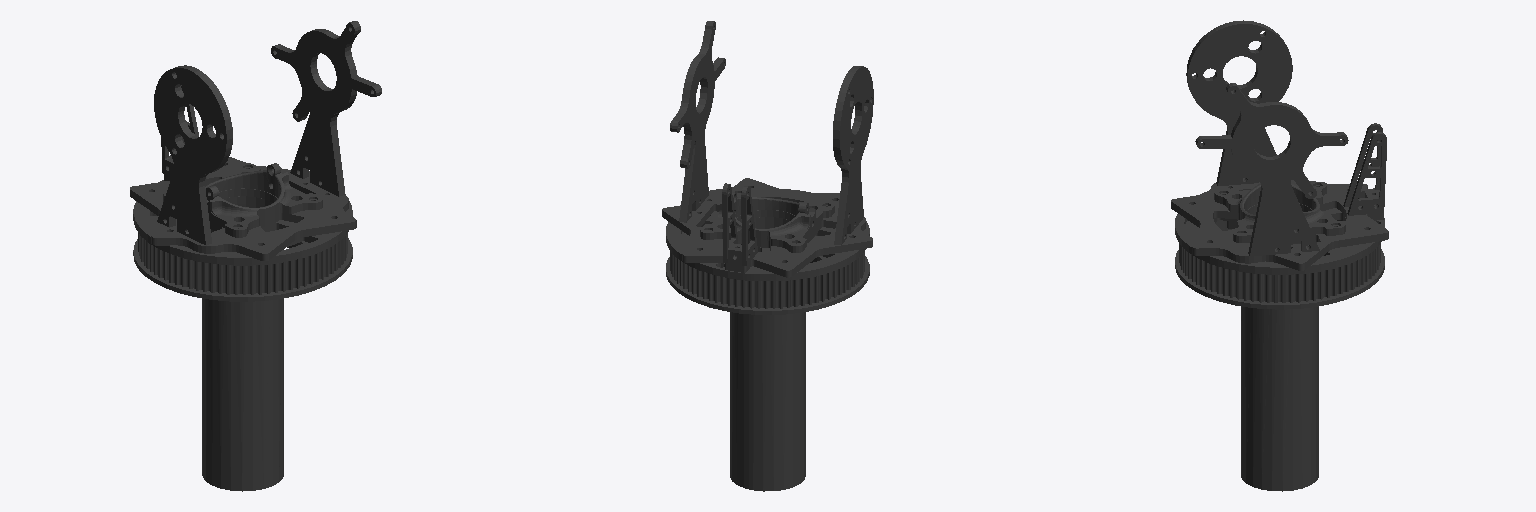
URDF robot description (test):
<?xml version="1.0" encoding="utf-8"?>
<!-- This URDF was automatically created by SolidWorks to URDF Exporter! Originally created by [author] ([email redacted]) 
     Commit Version: 1.6.0-4-g7f85cfe  Build Version: 1.6.7995.38578
     For more information, please see http://wiki.ros.org/sw_urdf_exporter -->
<robot
  name="test">
  <link
    name="base_link">
    <inertial>
      <origin
        xyz="-0.00158574376898011 0.0649548176062998 0.00592774601114456"
        rpy="0 0 0" />
      <mass
        value="7.79950985136614" />
      <inertia
        ixx="0.0283949962253378"
        ixy="7.42397316213092E-06"
        ixz="-2.81449130492085E-05"
        iyy="0.0457009333828173"
        iyz="0.000122723597431834"
        izz="0.024498650637409" />
    </inertial>
    <visual>
      <origin
        xyz="0 0 0"
        rpy="0 0 0" />
      <geometry>
        <mesh
          filename="package://test/meshes/base_link.STL" />
      </geometry>
      <material
        name="">
        <color
          rgba="0.898039215686275 0.917647058823529 0.929411764705882 1" />
      </material>
    </visual>
    <collision>
      <origin
        xyz="0 0 0"
        rpy="0 0 0" />
      <geometry>
        <mesh
          filename="package://test/meshes/base_link.STL" />
      </geometry>
    </collision>
  </link>
  <link
    name="Left_front_Link">
    <inertial>
      <origin
        xyz="7.2511E-05 -0.00014201 -0.0078892"
        rpy="0 0 0" />
      <mass
        value="0.59406" />
      <inertia
        ixx="8.4066E-05"
        ixy="-1.3903E-06"
        ixz="-2.541E-07"
        iyy="8.7069E-05"
        iyz="2.0912E-07"
        izz="0.00010365" />
    </inertial>
    <visual>
      <origin
        xyz="0 0 0"
        rpy="0 0 0" />
      <geometry>
        <mesh
          filename="package://test/meshes/Left_front_Link.STL" />
      </geometry>
      <material
        name="">
        <color
          rgba="0.64706 0.61961 0.58824 1" />
      </material>
    </visual>
    <collision>
      <origin
        xyz="0 0 0"
        rpy="0 0 0" />
      <geometry>
        <mesh
          filename="package://test/meshes/Left_front_Link.STL" />
      </geometry>
    </collision>
  </link>
  <joint
    name="Left_front_joint"
    type="continuous">
    <origin
      xyz="0.2345 -0.22031 -0.026995"
      rpy="0 0 0" />
    <parent
      link="base_link" />
    <child
      link="Left_front_Link" />
    <axis
      xyz="0 0 1" />
  </joint>
  <link
    name="Left_back_link">
    <inertial>
      <origin
        xyz="-0.00014757 7.627E-06 -0.0046289"
        rpy="0 0 0" />
      <mass
        value="0.6407" />
      <inertia
        ixx="0.00014297"
        ixy="-6.2441E-07"
        ixz="3.0814E-07"
        iyy="0.00013912"
        iyz="1.1551E-07"
        izz="0.00021217" />
    </inertial>
    <visual>
      <origin
        xyz="0 0 0"
        rpy="0 0 0" />
      <geometry>
        <mesh
          filename="package://test/meshes/Left_back_link.STL" />
      </geometry>
      <material
        name="">
        <color
          rgba="0.64706 0.61961 0.58824 1" />
      </material>
    </visual>
    <collision>
      <origin
        xyz="0 0 0"
        rpy="0 0 0" />
      <geometry>
        <mesh
          filename="package://test/meshes/Left_back_link.STL" />
      </geometry>
    </collision>
  </link>
  <joint
    name="Left_back_joint"
    type="continuous">
    <origin
      xyz="0.2345 0.22007 -0.028126"
      rpy="0 0 0" />
    <parent
      link="base_link" />
    <child
      link="Left_back_link" />
    <axis
      xyz="-1 0 0" />
  </joint>
  <link
    name="Right_front_link">
    <inertial>
      <origin
        xyz="-0.00014757 7.628E-06 -0.0046289"
        rpy="0 0 0" />
      <mass
        value="0.6407" />
      <inertia
        ixx="0.00014297"
        ixy="-6.244E-07"
        ixz="3.0814E-07"
        iyy="0.00013912"
        iyz="1.1551E-07"
        izz="0.00021217" />
    </inertial>
    <visual>
      <origin
        xyz="0 0 0"
        rpy="0 0 0" />
      <geometry>
        <mesh
          filename="package://test/meshes/Right_front_link.STL" />
      </geometry>
      <material
        name="">
        <color
          rgba="0.64706 0.61961 0.58824 1" />
      </material>
    </visual>
    <collision>
      <origin
        xyz="0 0 0"
        rpy="0 0 0" />
      <geometry>
        <mesh
          filename="package://test/meshes/Right_front_link.STL" />
      </geometry>
    </collision>
  </link>
  <joint
    name="Right_front_link"
    type="continuous">
    <origin
      xyz="-0.2345 -0.22007 -0.028122"
      rpy="0 0 0" />
    <parent
      link="base_link" />
    <child
      link="Right_front_link" />
    <axis
      xyz="0 0 1" />
  </joint>
  <link
    name="Right_back_link">
    <inertial>
      <origin
        xyz="7.2512E-05 -0.00014201 -0.0078892"
        rpy="0 0 0" />
      <mass
        value="0.59406" />
      <inertia
        ixx="8.4066E-05"
        ixy="-1.3903E-06"
        ixz="-2.541E-07"
        iyy="8.7069E-05"
        iyz="2.0911E-07"
        izz="0.00010365" />
    </inertial>
    <visual>
      <origin
        xyz="0 0 0"
        rpy="0 0 0" />
      <geometry>
        <mesh
          filename="package://test/meshes/Right_back_link.STL" />
      </geometry>
      <material
        name="">
        <color
          rgba="0.64706 0.61961 0.58824 1" />
      </material>
    </visual>
    <collision>
      <origin
        xyz="0 0 0"
        rpy="0 0 0" />
      <geometry>
        <mesh
          filename="package://test/meshes/Right_back_link.STL" />
      </geometry>
    </collision>
  </link>
  <joint
    name="Right_back_joint"
    type="continuous">
    <origin
      xyz="-0.2345 0.22031 -0.026992"
      rpy="0 0 0" />
    <parent
      link="base_link" />
    <child
      link="Right_back_link" />
    <axis
      xyz="1 0 0" />
  </joint>
  <link
    name="Yaw_link">
    <inertial>
      <origin
        xyz="-0.00025258 0.0019336 0.0022933"
        rpy="0 0 0" />
      <mass
        value="0.48017" />
      <inertia
        ixx="0.00072074"
        ixy="-4.8446E-06"
        ixz="1.798E-06"
        iyy="0.0007057"
        iyz="9.3289E-06"
        izz="0.000875" />
    </inertial>
    <visual>
      <origin
        xyz="0 0 0"
        rpy="0 0 0" />
      <geometry>
        <mesh
          filename="package://test/meshes/Yaw_link.STL" />
      </geometry>
      <material
        name="">
        <color
          rgba="0.29804 0.29804 0.29804 1" />
      </material>
    </visual>
    <collision>
      <origin
        xyz="0 0 0"
        rpy="0 0 0" />
      <geometry>
        <mesh
          filename="package://test/meshes/Yaw_link.STL" />
      </geometry>
    </collision>
  </link>
  <joint
    name="Yaw_link"
    type="continuous">
    <origin
      xyz="0 0 0.238"
      rpy="0 0 0" />
    <parent
      link="base_link" />
    <child
      link="Yaw_link" />
    <axis
      xyz="0 0 -1" />
  </joint>
  <link
    name="Pitch_link">
    <inertial>
      <origin
        xyz="0 0 0"
        rpy="0 0 0" />
      <mass
        value="0" />
      <inertia
        ixx="0"
        ixy="0"
        ixz="0"
        iyy="0"
        iyz="0"
        izz="0" />
    </inertial>
    <visual>
      <origin
        xyz="0 0 0"
        rpy="0 0 0" />
      <geometry>
        <mesh
          filename="package://test/meshes/Pitch_link.STL" />
      </geometry>
      <material
        name="">
        <color
          rgba="1 1 1 1" />
      </material>
    </visual>
    <collision>
      <origin
        xyz="0 0 0"
        rpy="0 0 0" />
      <geometry>
        <mesh
          filename="package://test/meshes/Pitch_link.STL" />
      </geometry>
    </collision>
  </link>
  <joint
    name="Pitch_joint"
    type="continuous">
    <origin
      xyz="0 0 0.238"
      rpy="0 0 0" />
    <parent
      link="base_link" />
    <child
      link="Pitch_link" />
    <axis
      xyz="0.98193 0.18925 0" />
  </joint>
</robot>

--- Render facts (derived) ---
3 views of the same robot in one strip: view 1: azimuth 30°, elevation 25°; view 2: azimuth 150°, elevation 25°; view 3: azimuth 270°, elevation 25° (orthographic).
Robot: test — 7 links, 6 joints (6 continuous); root link base_link; default pose: all joints at 0.
Visible links, largest first — view 1: Yaw_link; view 2: Yaw_link; view 3: Yaw_link.
Link boxes in pixels (left/top/right/bottom): Yaw_link: left=130, top=21, right=381, bottom=491; Yaw_link: left=662, top=21, right=873, bottom=491; Yaw_link: left=1171, top=20, right=1388, bottom=491.
Bounding box of the posed robot: 0.1415 × 0.1364 × 0.2979 m (x, y, z).
Meshes: 7 distinct files referenced, 1 mesh visuals loaded (1 binary STL); not drawn: 6 (reference not matched to a file when rendering).